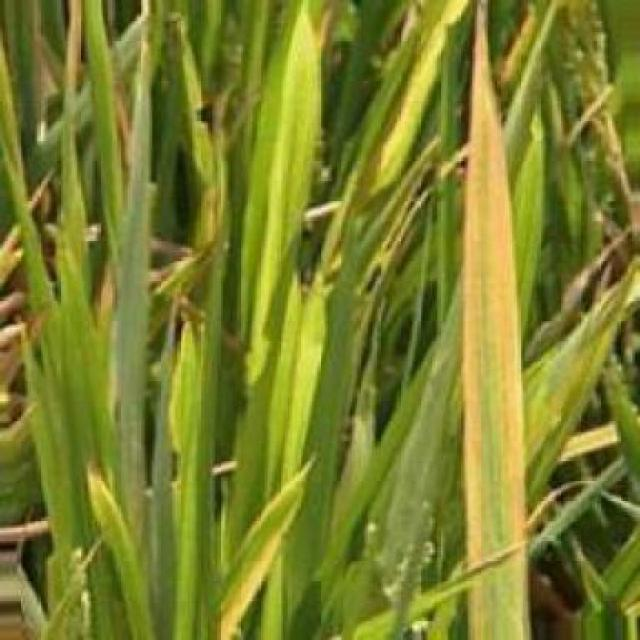Rice Tungro: (450, 10, 541, 638)
